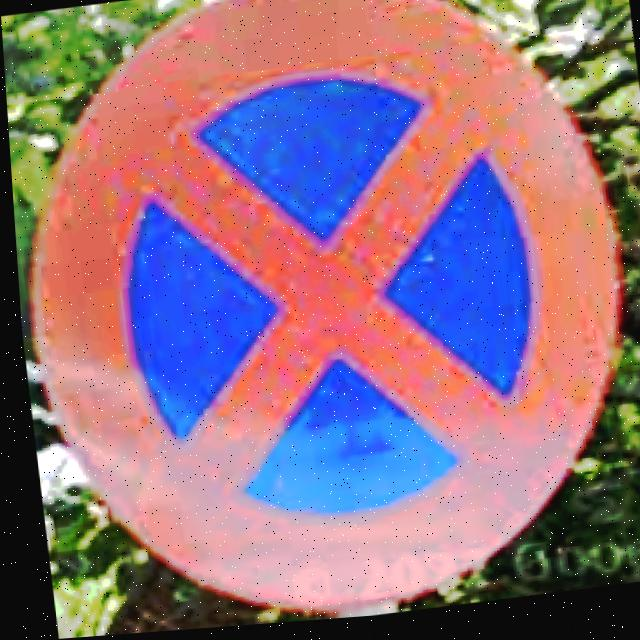nopark: (25, 0, 616, 619)
